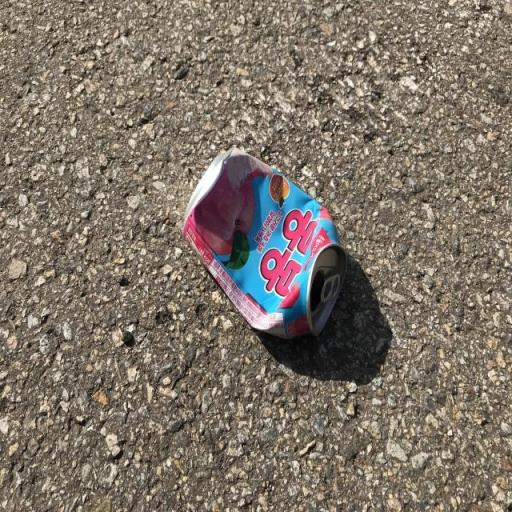metal: (174, 138, 366, 355)
